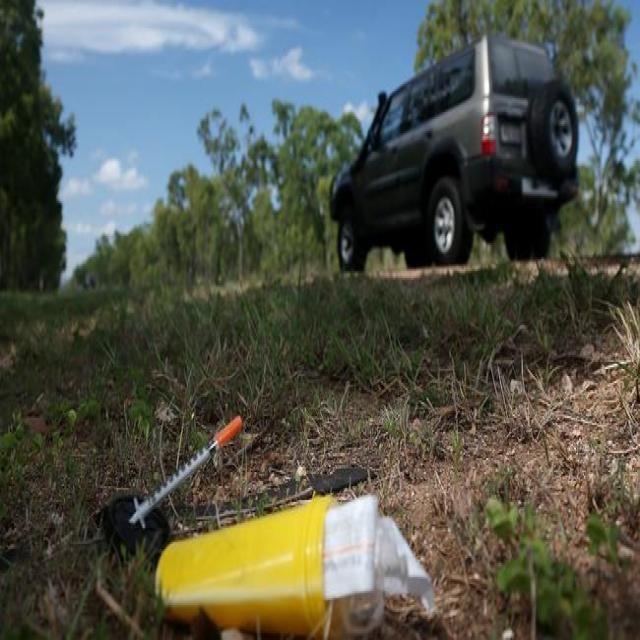Needle: (119, 401, 250, 531)
